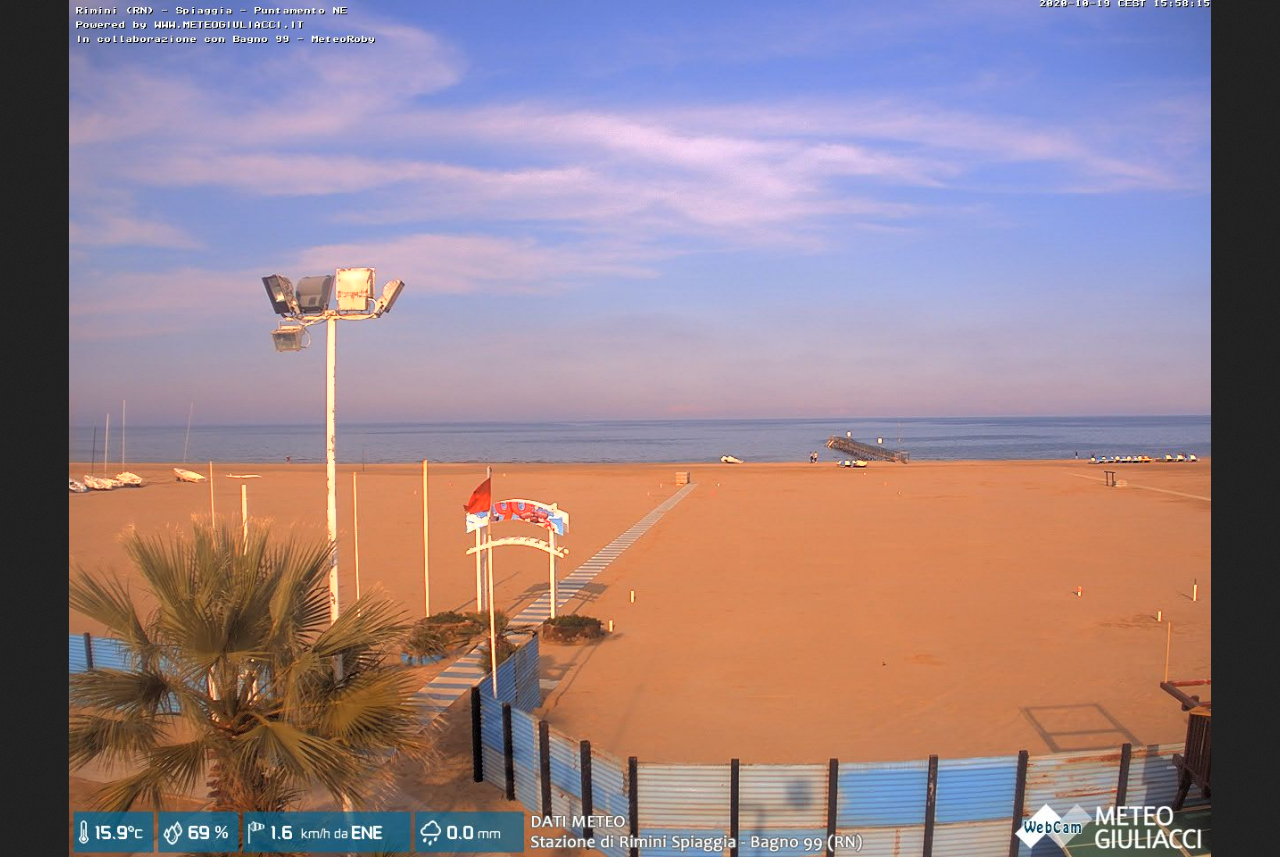maybe: (464, 474, 491, 516)
